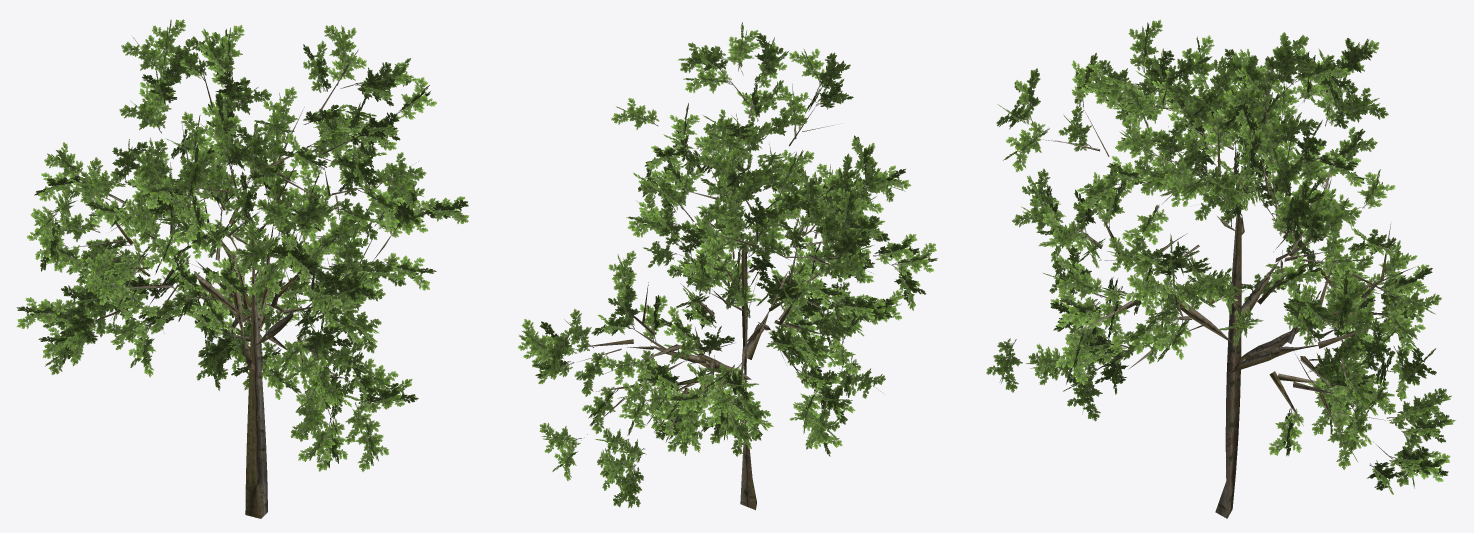
The model's file is tree_01_medium.glb.
The picture shows the model from 3 angles, left to right: view 1: azimuth 30°, elevation 25°; view 2: azimuth 150°, elevation 25°; view 3: azimuth 270°, elevation 25°; orthographic projection. The views are drawn at different scales.
Visible parts, largest first — view 1: tree_01; view 2: tree_01; view 3: tree_01.
Boxes of the visible parts, x1=… form: tree_01: x1=16, y1=19, x2=469, y2=518; tree_01: x1=518, y1=22, x2=937, y2=510; tree_01: x1=986, y1=19, x2=1455, y2=518.
Size of the model in its own units: 10.87 by 12.5 by 10.85.
Materials: 2 (2 with a texture image).
